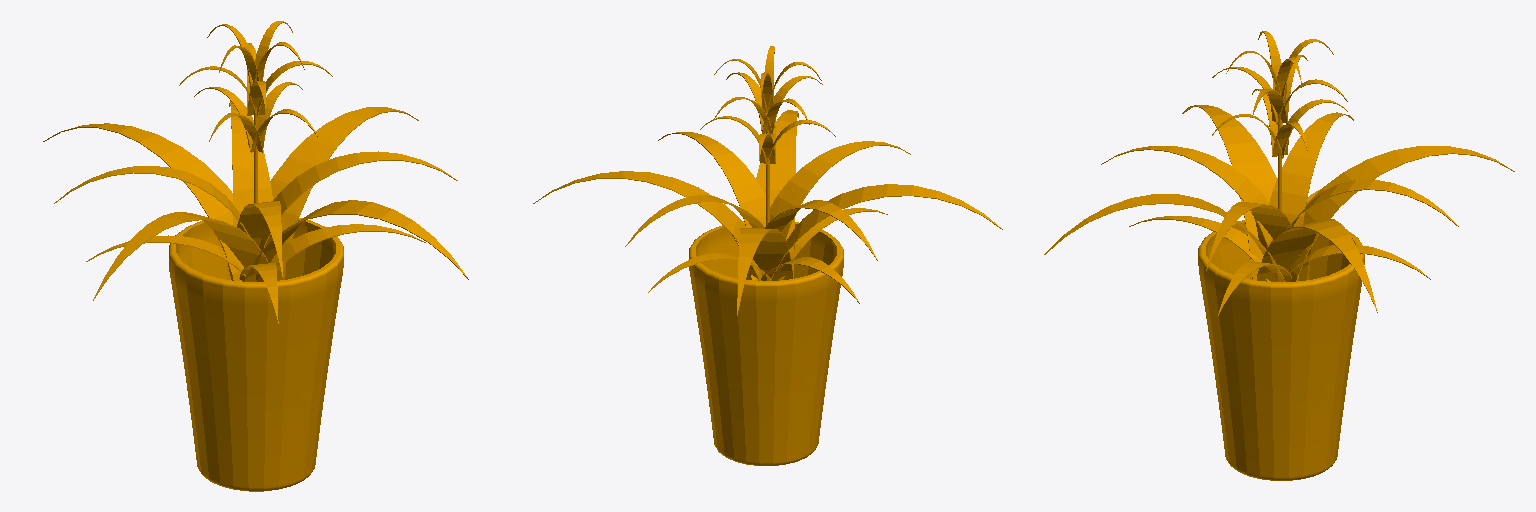
robot.urdf — 1af2b0b5ca59c8d8a4136492f17b9a59:
<?xml version="1.0" ?>
<robot name="1af2b0b5ca59c8d8a4136492f17b9a59" version="1.0">
  <link name="base_link">
    <inertial>
      <origin rpy="0.0 0.0 0.0" xyz="0.0 0.0 0.0"/>
      <mass value="0.0"/>
      <inertia ixx="0.001" ixy="0.0" ixz="0.0" iyy="0.001" iyz="0.0" izz="0.001"/>
    </inertial>
    <visual name="1af2b0b5ca59c8d8a4136492f17b9a59___1">
      <origin rpy="0.0 0.0 0.0" xyz="0.0 -0.0 0.0"/>
      <geometry>
        <mesh filename="shape/visual/1af2b0b5ca59c8d8a4136492f17b9a59_m1_vm.obj"/>
      </geometry>
    </visual>
    <visual name="1af2b0b5ca59c8d8a4136492f17b9a59___3">
      <origin rpy="0.0 0.0 0.0" xyz="0.0 -0.0 0.0"/>
      <geometry>
        <mesh filename="shape/visual/1af2b0b5ca59c8d8a4136492f17b9a59_m3_vm.obj"/>
      </geometry>
    </visual>
    <visual name="1af2b0b5ca59c8d8a4136492f17b9a59___2">
      <origin rpy="0.0 0.0 0.0" xyz="0.0 -0.0 0.0"/>
      <geometry>
        <mesh filename="shape/visual/1af2b0b5ca59c8d8a4136492f17b9a59_m2_vm.obj"/>
      </geometry>
    </visual>
    <collision>
      <origin rpy="0.0 0.0 0.0" xyz="0.0 -0.0 0.0"/>
      <geometry>
        <mesh filename="shape/collision/1af2b0b5ca59c8d8a4136492f17b9a59_cm.obj"/>
      </geometry>
    </collision>
  </link>
</robot>

--- Facts derived from the render (not from the file) ---
The picture shows the robot from 3 angles, left to right: view 1: azimuth 30°, elevation 25°; view 2: azimuth 150°, elevation 25°; view 3: azimuth 270°, elevation 25°; orthographic projection.
Model 1af2b0b5ca59c8d8a4136492f17b9a59 with 1 links and 0 joints (none), rooted at base_link, posed all joints at 0.
Visible links, largest first — view 1: base_link; view 2: base_link; view 3: base_link.
Link boxes in pixels (box(x1,y1,x2,y2)): base_link: box(43, 21, 468, 491); base_link: box(533, 46, 1002, 465); base_link: box(1044, 31, 1514, 480).
Size in the robot's own frame: 0.5834 by 0.5834 by 0.5651 metres.
3 mesh visuals loaded from 3 distinct referenced files (3 OBJ).